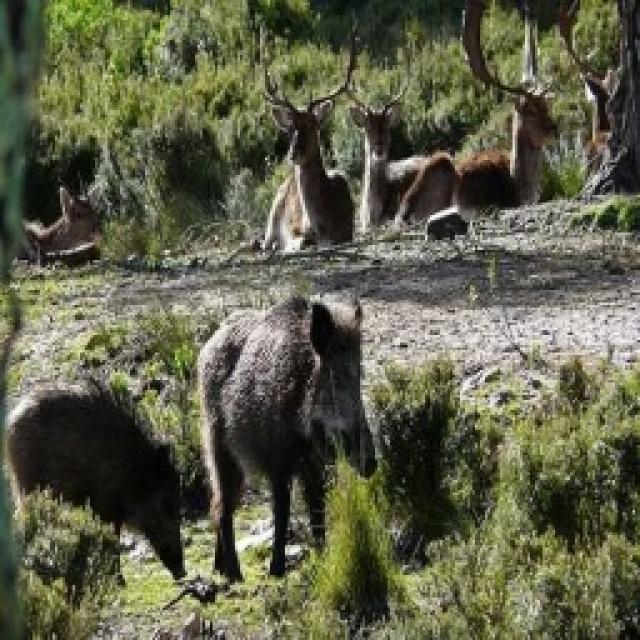not_pig: (258, 22, 360, 250), (465, 0, 560, 225), (345, 95, 460, 237), (22, 182, 102, 268)
pig: (190, 288, 380, 580), (2, 374, 188, 594)
